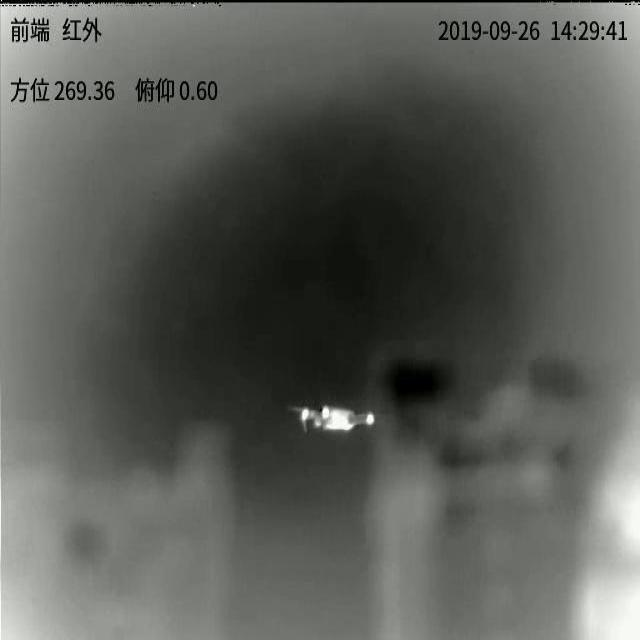drone: (288, 405, 376, 432)
